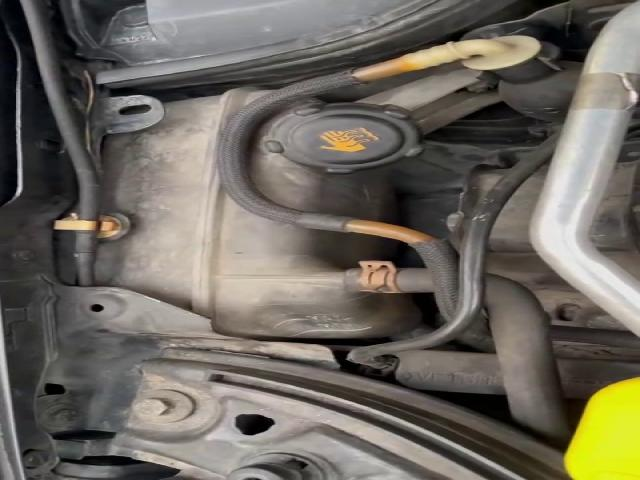antifreeze_tank: (97, 89, 420, 338), (250, 103, 422, 221)
